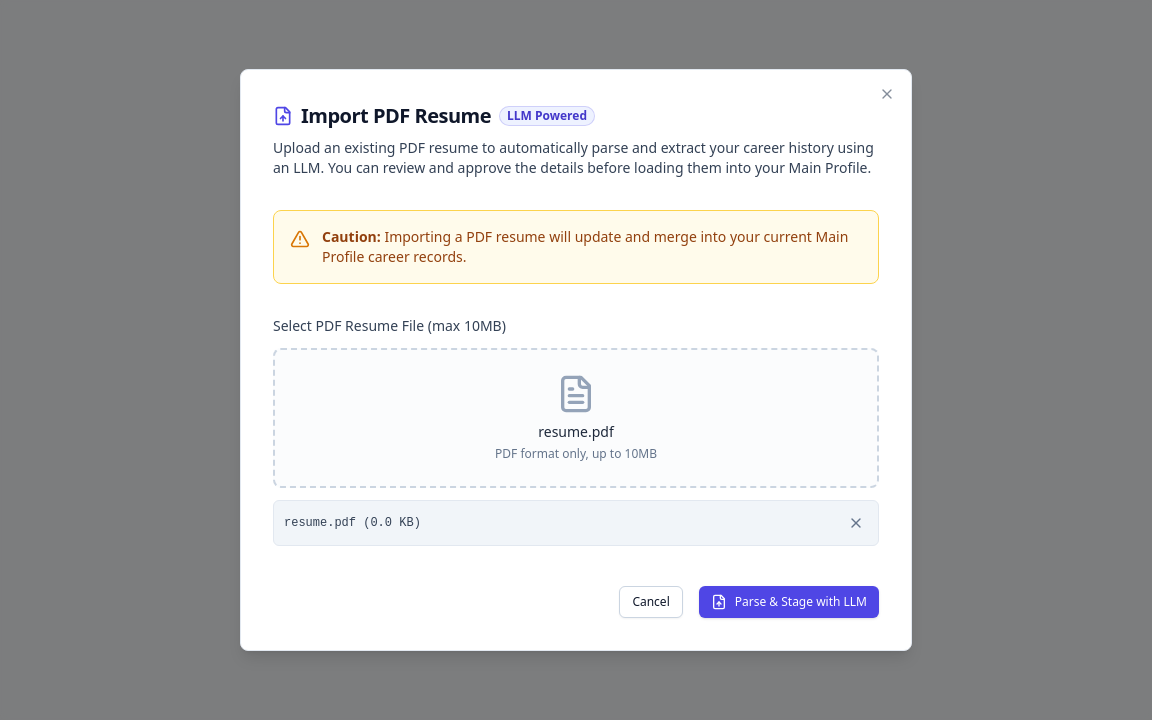
Test: ImportPDFDialog › renders inline error alert when commit API mutation fails
The image size is (1152, 720).
Earlier steps of the test are not shown.
Click the button "Parse & Stage with LLM".
click(789, 602)  # box [699, 586, 879, 618]
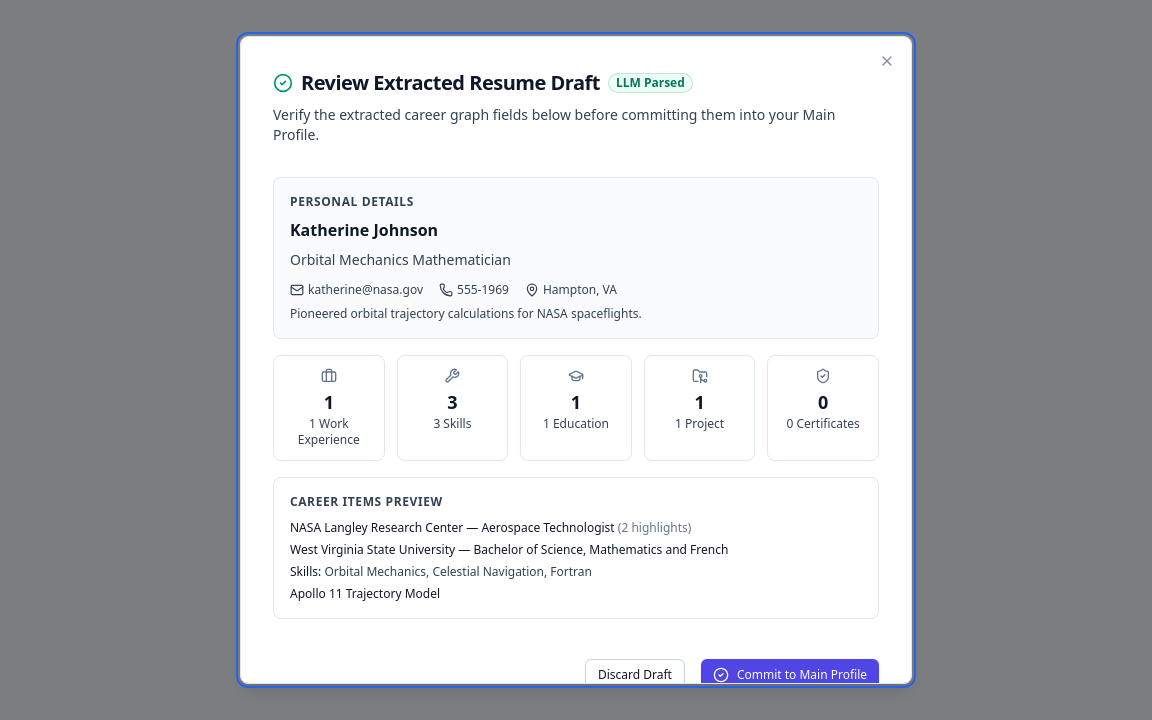
Check: the heading "Review Extracted Resume Draft" is shown, box [301, 69, 600, 97]
Click the button "Commit to Main Profile".
click(790, 675)  # box [701, 659, 879, 691]
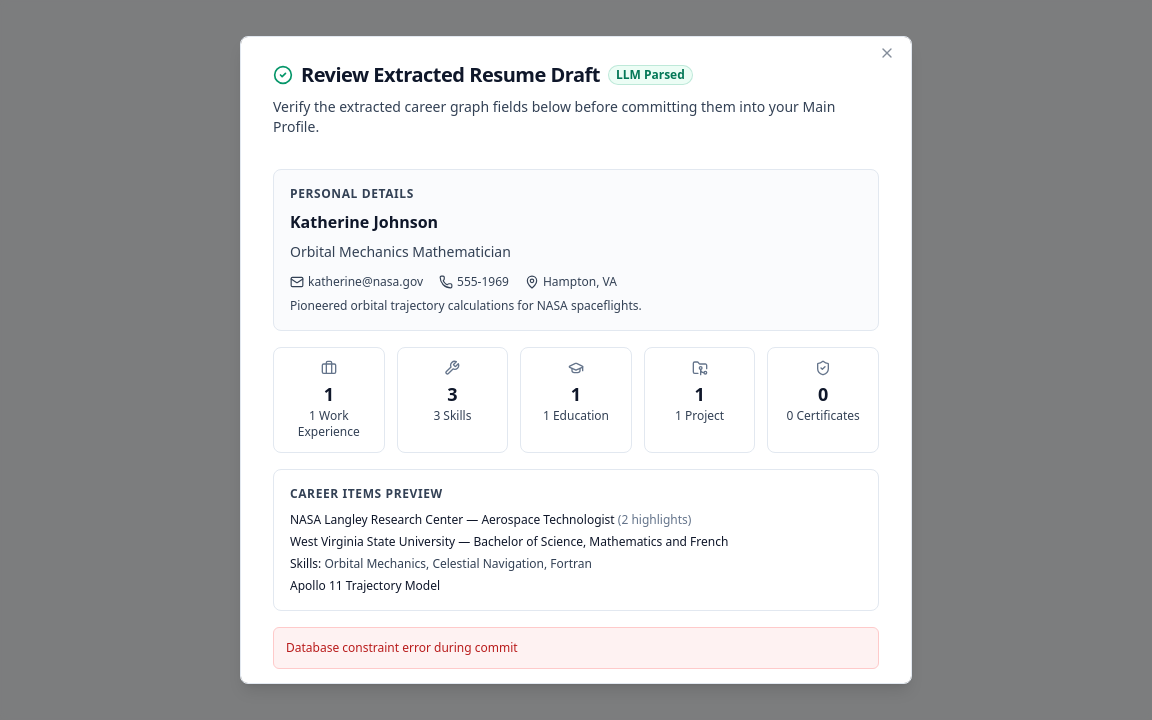
Check: the text "Database constraint error during commit" is shown, box [273, 627, 879, 669]
